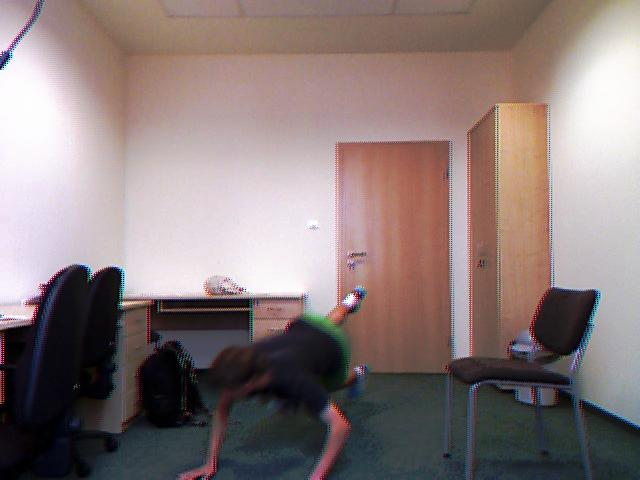fall: (170, 276, 404, 480)
